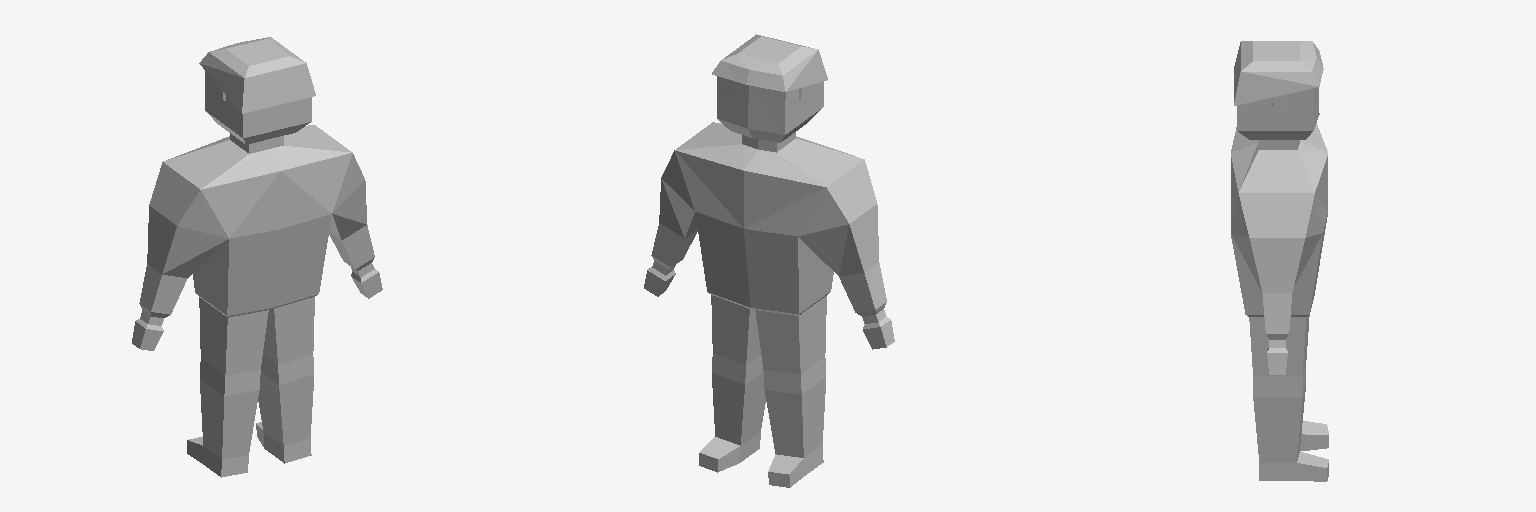
File: egor_smotrit.obj
3 views of the same model, side by side, from view 1: azimuth 30°, elevation 25°; view 2: azimuth 150°, elevation 25°; view 3: azimuth 270°, elevation 25° (orthographic).
Visible parts, largest first — view 1: Cube.009_Cube.005; view 2: Cube.009_Cube.005; view 3: Cube.009_Cube.005.
Part boxes in pixels (bbox=[...]): Cube.009_Cube.005: bbox=[132, 37, 382, 477]; Cube.009_Cube.005: bbox=[644, 34, 894, 487]; Cube.009_Cube.005: bbox=[1231, 41, 1328, 481].
Size of the model in its own units: 0.8537 by 1.37 by 0.3009.